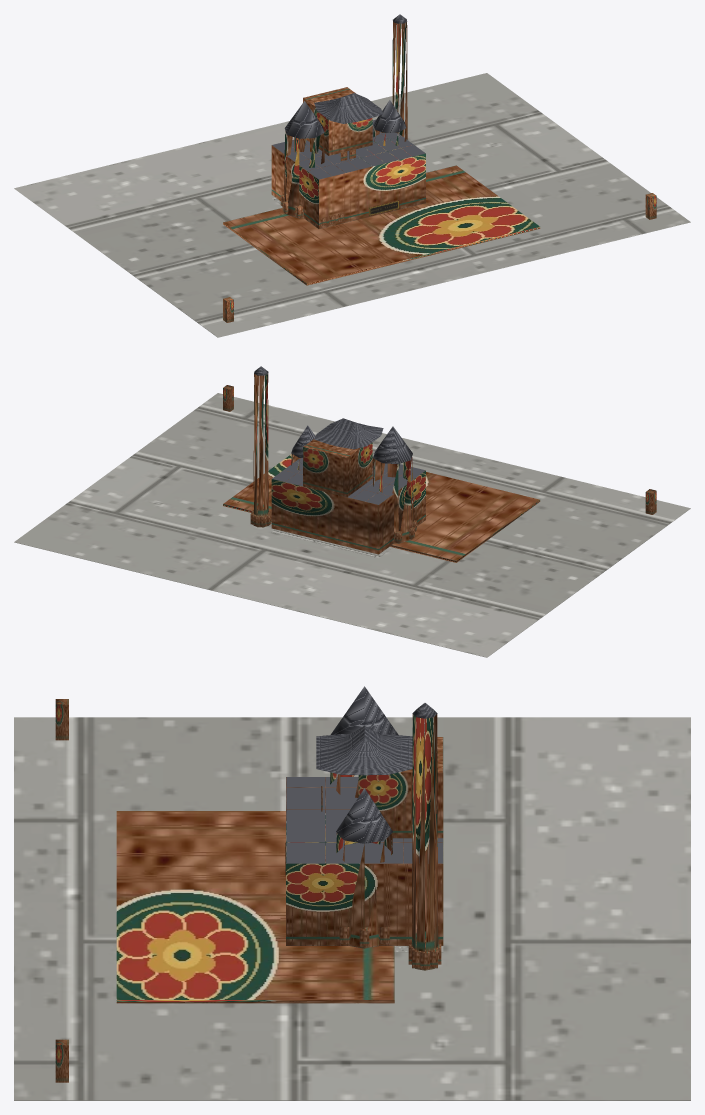
The picture shows the model from 3 angles, top to bottom: view 1: azimuth 30°, elevation 25°; view 2: azimuth 150°, elevation 25°; view 3: azimuth 270°, elevation 25°; orthographic projection. The views are drawn at different scales.
Visible parts, largest first — view 1: 11710_01_05551_001_01_L2__base, 11710_01_05551_001_02_L2__body, 11710_01_05551_001_03_L2__roof, 11710_01_05551_001_06_L2__green; view 2: 11710_01_05551_001_01_L2__base, 11710_01_05551_001_02_L2__body, 11710_01_05551_001_03_L2__roof, 11710_01_05551_001_06_L2__green; view 3: 11710_01_05551_001_01_L2__base, 11710_01_05551_001_02_L2__body, 11710_01_05551_001_03_L2__roof, 11710_01_05551_001_06_L2__green.
Part boxes in pixels (x1,y1,x2,y2): 11710_01_05551_001_01_L2__base: (14, 73, 690, 337); 11710_01_05551_001_02_L2__body: (223, 21, 540, 285); 11710_01_05551_001_03_L2__roof: (272, 14, 425, 179); 11710_01_05551_001_06_L2__green: (223, 193, 656, 322); 11710_01_05551_001_01_L2__base: (14, 393, 690, 657); 11710_01_05551_001_02_L2__body: (223, 373, 540, 562); 11710_01_05551_001_03_L2__roof: (254, 366, 425, 504); 11710_01_05551_001_06_L2__green: (223, 385, 656, 514); 11710_01_05551_001_01_L2__base: (14, 717, 690, 1100); 11710_01_05551_001_02_L2__body: (116, 714, 443, 1003); 11710_01_05551_001_03_L2__roof: (286, 686, 442, 863); 11710_01_05551_001_06_L2__green: (55, 699, 68, 1082).
Size of the model in its own units: 150 by 48 by 112.
5 materials, 5 textured.
